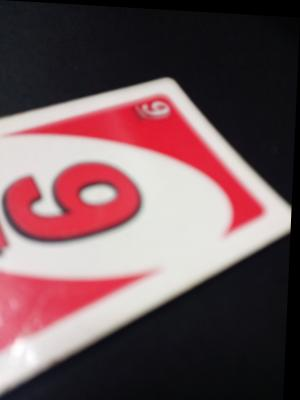num_9: (0, 151, 155, 271), (129, 90, 174, 124)
